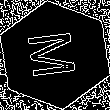M_E: (25, 28, 85, 82)
